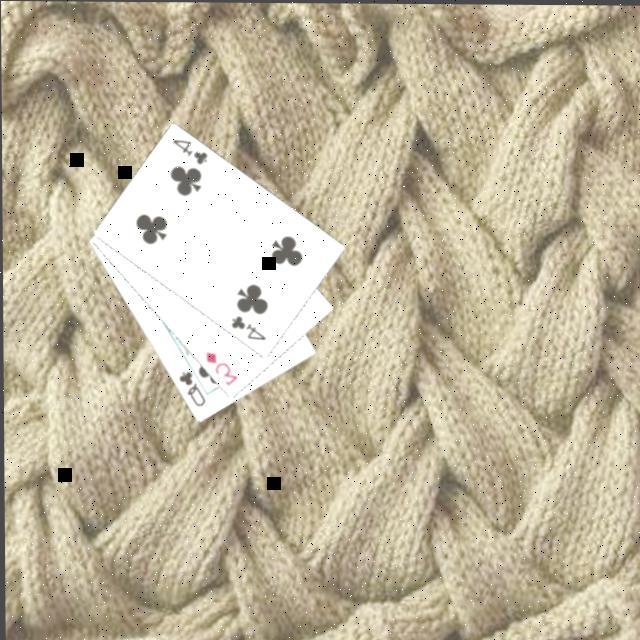3D: (203, 347, 241, 387)
4C: (170, 134, 212, 166), (228, 310, 270, 341)
QC: (176, 365, 208, 407)
